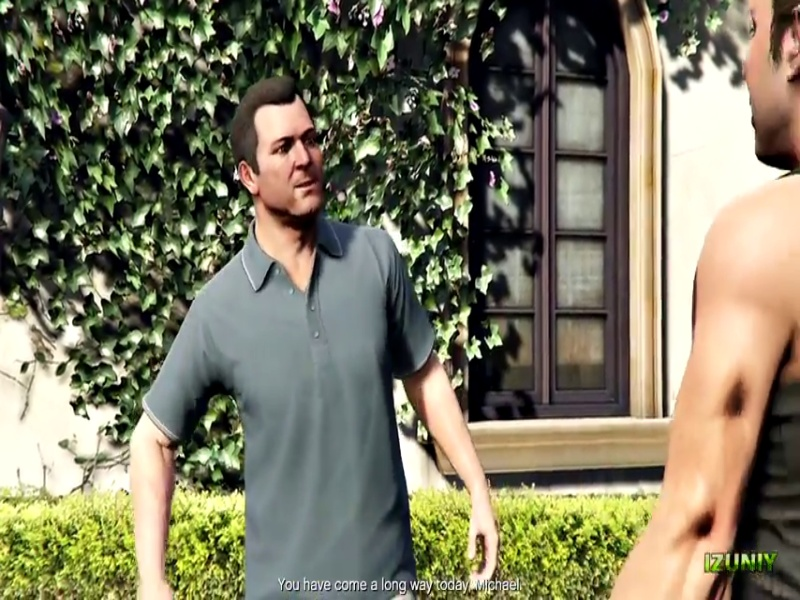human: (129, 86, 490, 595)
